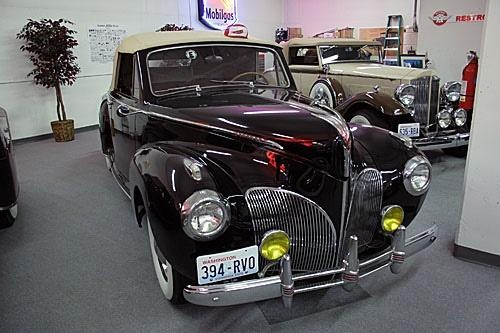car: (99, 29, 440, 309), (278, 37, 472, 160)
pottedplant: (17, 18, 82, 145)
